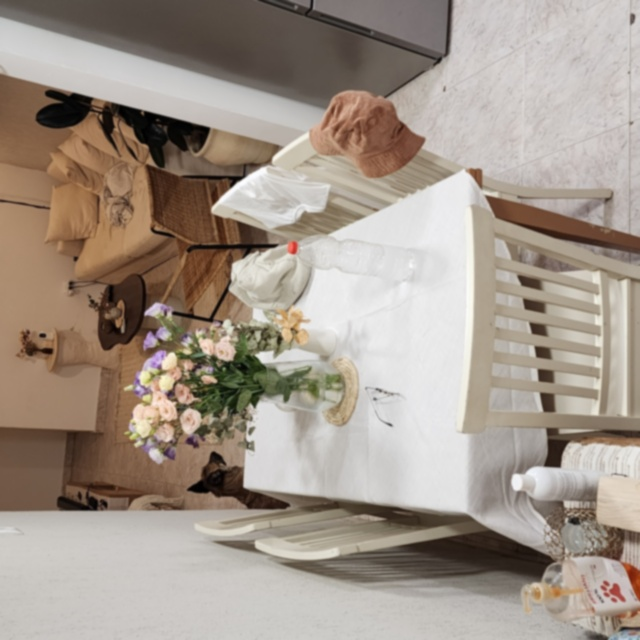glasses: (359, 381, 404, 428)
